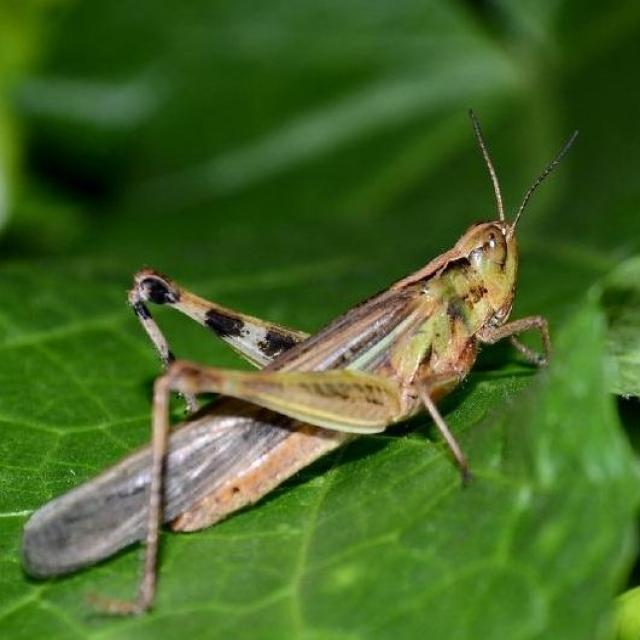ZhaMeng: (19, 137, 582, 596)
